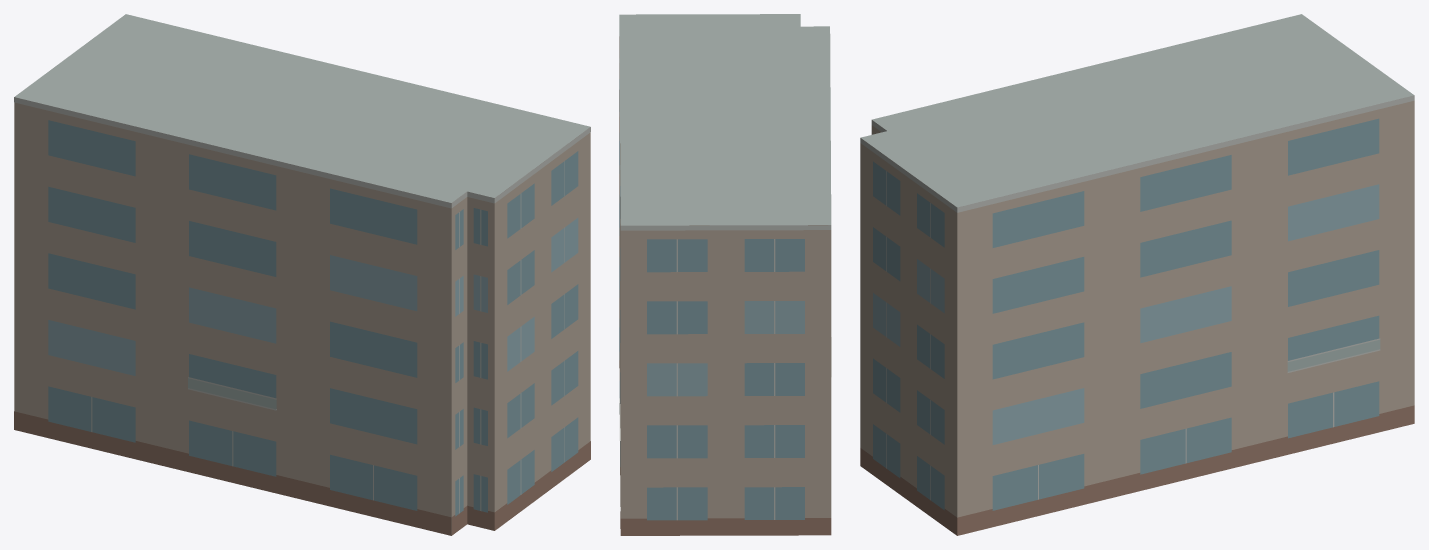
Rendered from survey-upis-32907913.glb.
3 renders of one model, left to right at view 1: azimuth 30°, elevation 25°; view 2: azimuth 150°, elevation 25°; view 3: azimuth 270°, elevation 25°, orthographic. The views are drawn at different scales.
Visible parts, largest first — view 1: survey-upis-32907913.tmp; view 2: survey-upis-32907913.tmp; view 3: survey-upis-32907913.tmp.
Part boxes in pixels (left/top/right/bottom): survey-upis-32907913.tmp: left=14, top=14, right=590, bottom=535; survey-upis-32907913.tmp: left=619, top=14, right=831, bottom=535; survey-upis-32907913.tmp: left=860, top=14, right=1414, bottom=535.
Bounding box in the file's own units: 19.1 × 15.1 × 23.11.
